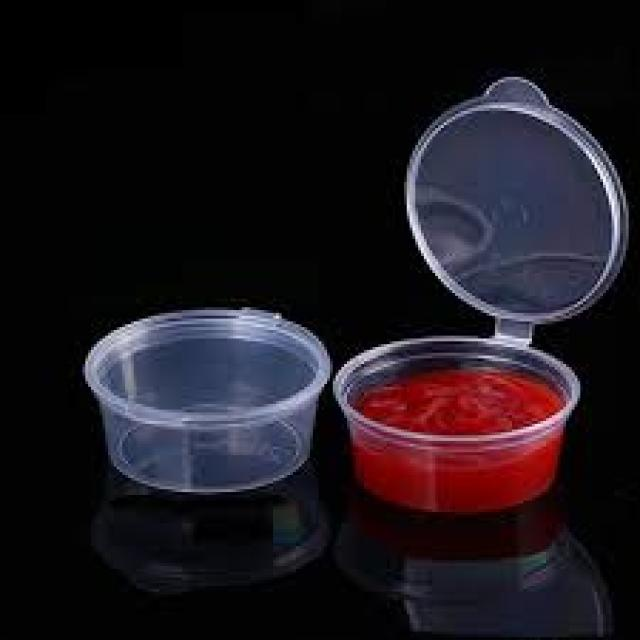disposable: (106, 310, 352, 512), (340, 330, 570, 518)
